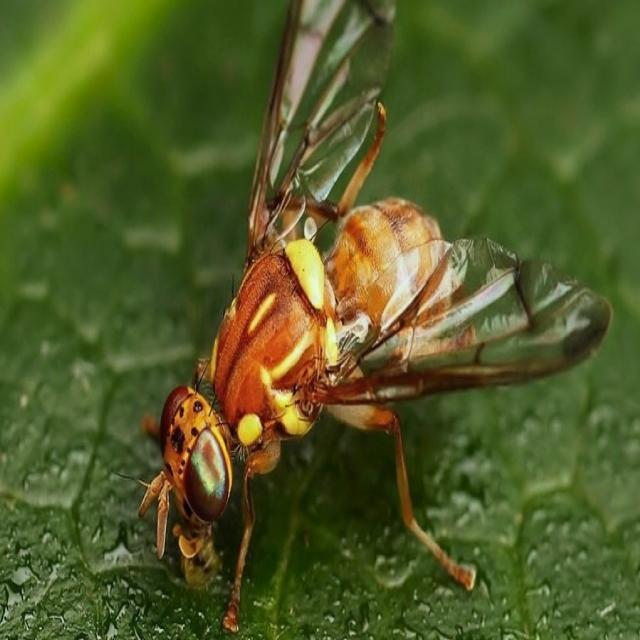Fruit fly: (125, 0, 623, 633)
